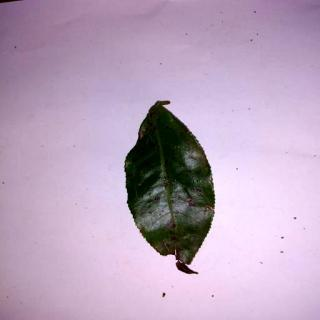Bird Eye Spot: (123, 100, 216, 276)
